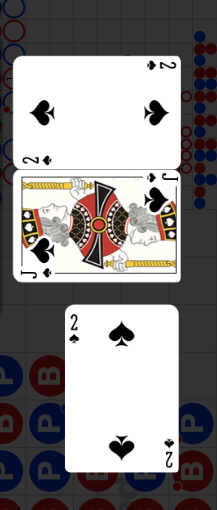2S: (68, 313, 81, 346), (144, 59, 177, 72), (162, 436, 175, 468)
JS: (132, 171, 179, 215), (12, 238, 58, 282)
